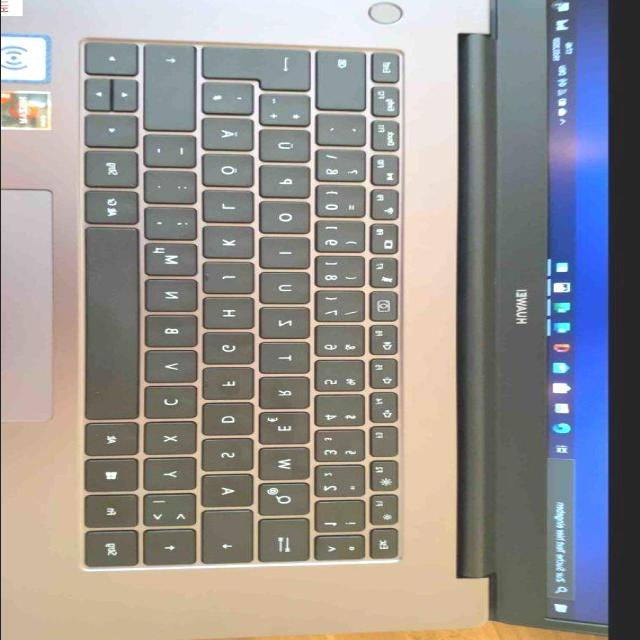0: (319, 187, 371, 220)
1: (318, 503, 370, 535)
2: (318, 467, 370, 500)
3: (318, 432, 370, 465)
4: (318, 397, 370, 429)
5: (318, 362, 370, 395)
6: (318, 327, 370, 359)
7: (318, 292, 370, 324)
8: (318, 258, 370, 290)
9: (318, 223, 371, 255)
a: (204, 476, 258, 509)
accent: (320, 116, 372, 148)
ae: (205, 120, 259, 153)
alt-left: (88, 424, 143, 459)
altgr-right: (88, 192, 143, 227)
b: (149, 316, 203, 350)
c: (147, 387, 202, 421)
caret: (318, 537, 370, 563)
comma: (148, 209, 203, 243)
d: (204, 405, 259, 439)
del: (319, 53, 372, 113)
e: (262, 413, 315, 447)
enter: (205, 49, 317, 93)
f: (205, 369, 259, 402)
g: (205, 334, 259, 367)
h: (205, 299, 259, 331)
hash: (205, 85, 259, 118)
i: (264, 239, 316, 271)
j: (206, 264, 259, 296)
k: (205, 227, 259, 261)
keyboard: (75, 35, 412, 578)
l: (205, 192, 259, 225)
less: (147, 495, 202, 529)
m: (148, 245, 203, 279)
minus: (148, 137, 201, 171)
n: (148, 280, 203, 314)
o: (263, 203, 316, 237)
oe: (205, 156, 259, 190)
p: (263, 167, 316, 200)
plus: (263, 96, 317, 130)
point: (148, 173, 202, 207)
q: (261, 484, 315, 518)
r: (262, 379, 315, 412)
s: (204, 440, 259, 474)
shift-left: (147, 532, 201, 568)
shift-lock: (204, 512, 258, 566)
shift-right: (147, 47, 203, 134)
space: (88, 229, 146, 423)
ss: (319, 151, 371, 185)
strg-left: (87, 532, 143, 570)
strg-right: (88, 151, 143, 191)
t: (263, 344, 315, 376)
tab: (261, 520, 315, 564)
u: (262, 273, 315, 306)
ue: (262, 131, 316, 165)
v: (148, 352, 203, 386)
w: (262, 449, 315, 483)
x: (147, 423, 202, 457)
y: (147, 459, 202, 493)
z: (263, 308, 315, 341)
